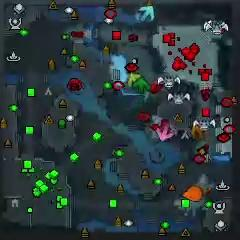p5: (183, 185, 204, 202)
x1: (156, 124, 174, 141)
x2: (128, 73, 141, 87)
x3: (138, 5, 154, 22)
x4: (133, 78, 149, 93)
x5: (191, 124, 205, 139)
